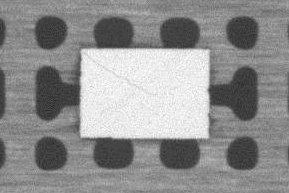DIE_CRACK: (84, 52, 158, 97)
